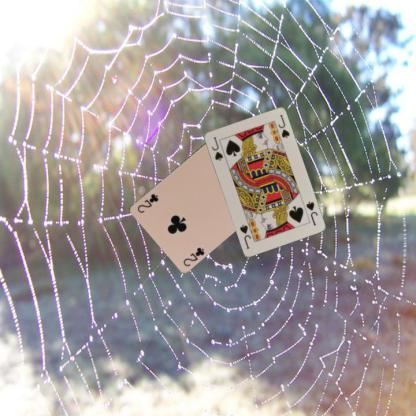2c: (180, 245, 206, 268)
Js: (303, 199, 319, 226), (209, 134, 224, 162)
